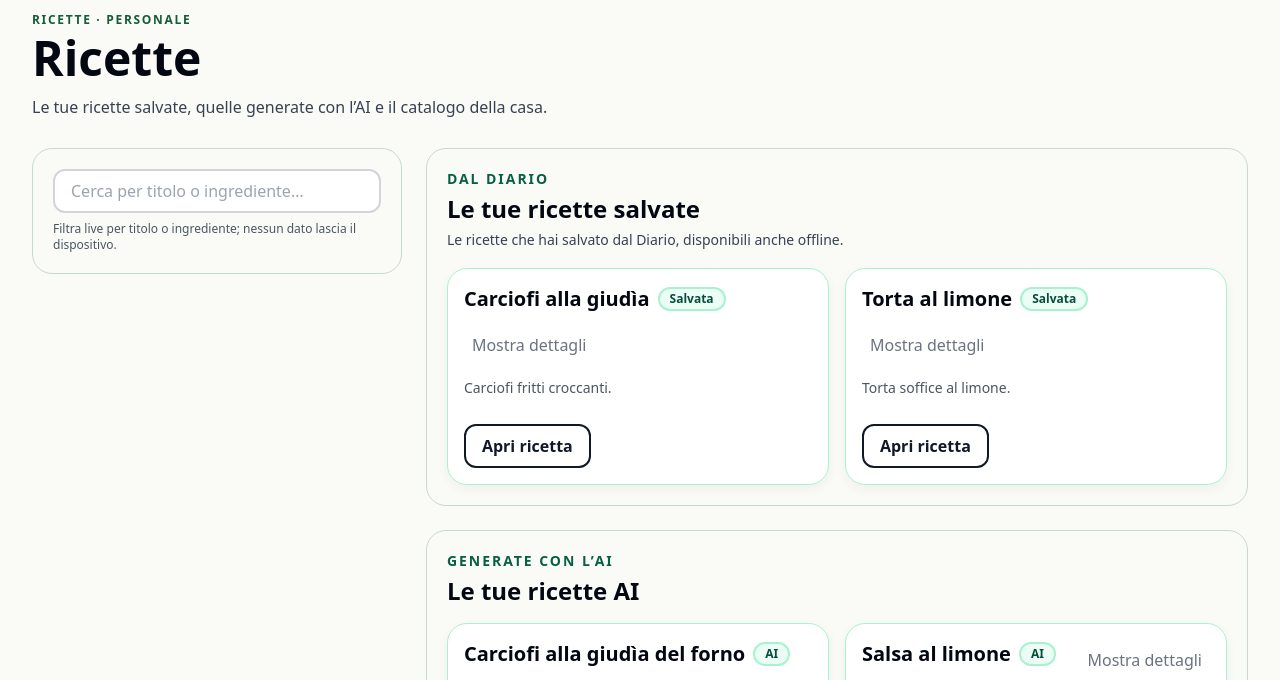
Test: RecipesPage › filtra i tre gruppi con una sola query e ripristina tutto con query vuota
This screenshot has width=1280, height=680.
expect the heading "Torta al limone" is shown: met, box [862, 285, 1012, 313]
expect the heading "Salsa al limone" is shown: met, box [862, 640, 1011, 668]
Type "limone" into the search field named "Cerca ricette". click: (217, 191)
box: [53, 169, 381, 213]
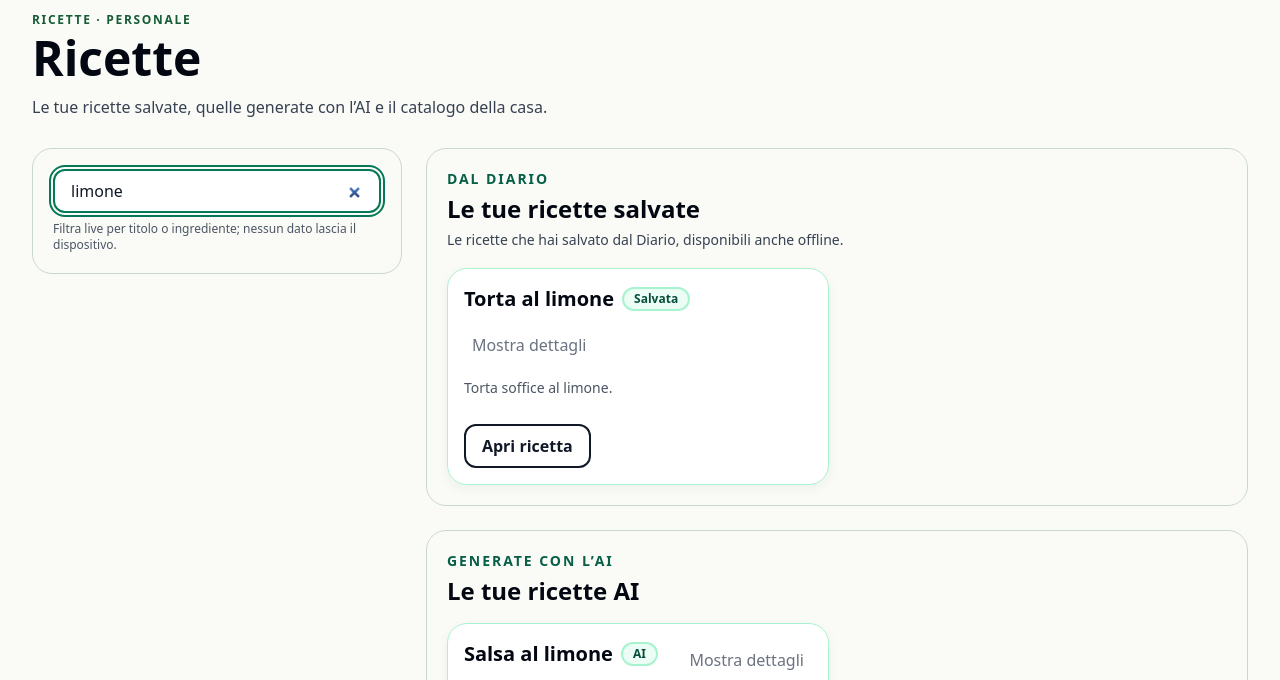
expect the heading "Torta al limone" is shown: met, box [464, 285, 614, 313]
expect the heading "Carciofi alla giudìa" is gone: met
expect the heading "Carciofi alla giudìa del forno" is gone: met
// Query vuota: tutti i gruppi tornano completi, con le rispettive badge.
Clear the search field named "Cerca ricette". click: (217, 191)
box: [53, 169, 381, 213]
(page scrolled)
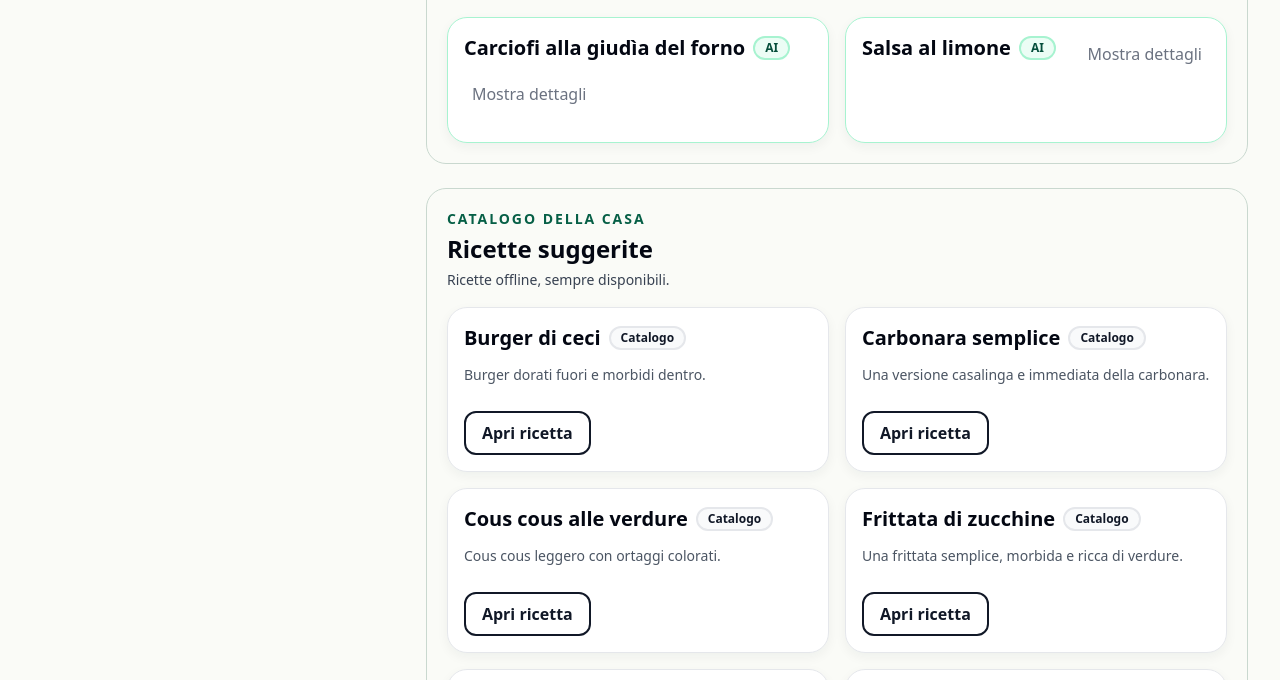
expect the heading "Carciofi alla giudìa del forno" is shown: met, box [464, 34, 745, 62]
expect the text "AI" is shown 2 times: met, box [753, 36, 790, 60]; [1019, 36, 1056, 60]
expect the text "Catalogo" next to "Burger di ceci" is shown: met, box [621, 329, 674, 346]
